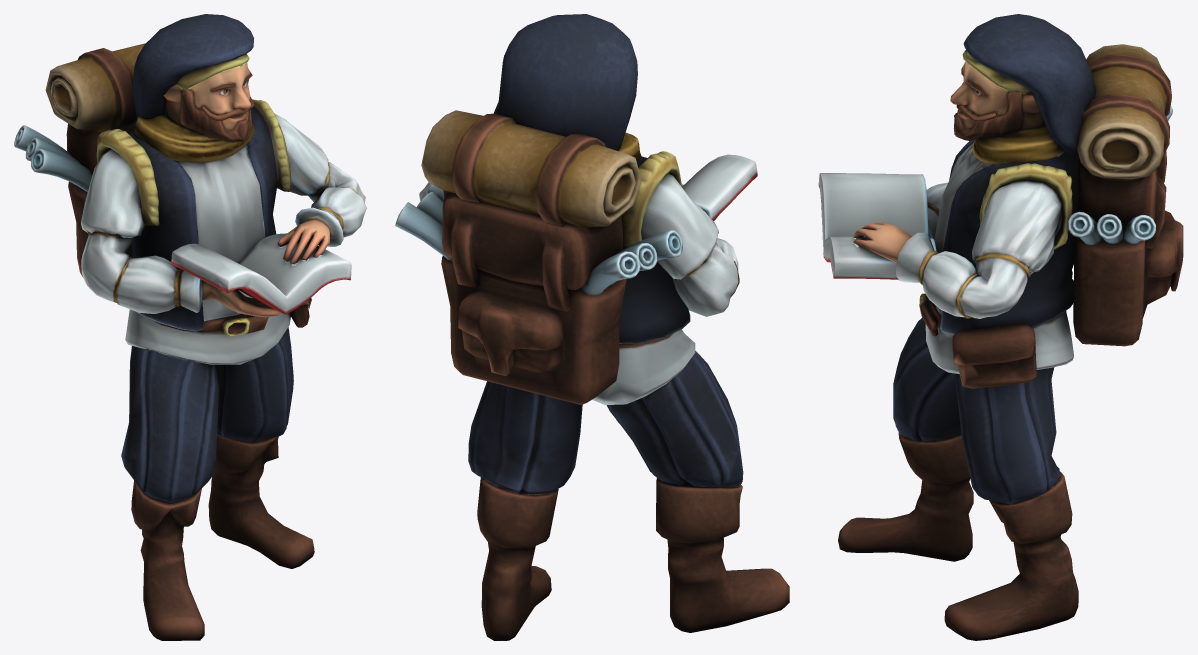
The model's file is MZ4250 - Volothamp Geddarm.glb.
3 renders of one model, left to right at view 1: azimuth 30°, elevation 25°; view 2: azimuth 150°, elevation 25°; view 3: azimuth 270°, elevation 25°, orthographic. The views are drawn at different scales.
Visible parts, largest first — view 1: body_low.001, backpack_low.001, book_low.001, papers_low.001; view 2: body_low.001, backpack_low.001, papers_low.001, book_low.001; view 3: body_low.001, backpack_low.001, book_low.001, papers_low.001.
Boxes of the visible parts, x1,y1,x2,y2 form: body_low.001: (81, 14, 366, 640); backpack_low.001: (45, 43, 145, 277); book_low.001: (171, 233, 351, 314); papers_low.001: (14, 125, 92, 192); body_low.001: (419, 14, 789, 640); backpack_low.001: (421, 110, 641, 405); papers_low.001: (395, 184, 682, 295); book_low.001: (641, 154, 757, 220); body_low.001: (838, 14, 1095, 640); backpack_low.001: (1073, 44, 1183, 346); book_low.001: (818, 173, 936, 279); papers_low.001: (1067, 106, 1172, 244).
Bounding box in the file's own units: 3.1 × 5.82 × 3.35.
Materials: 1 (1 with a texture image).
